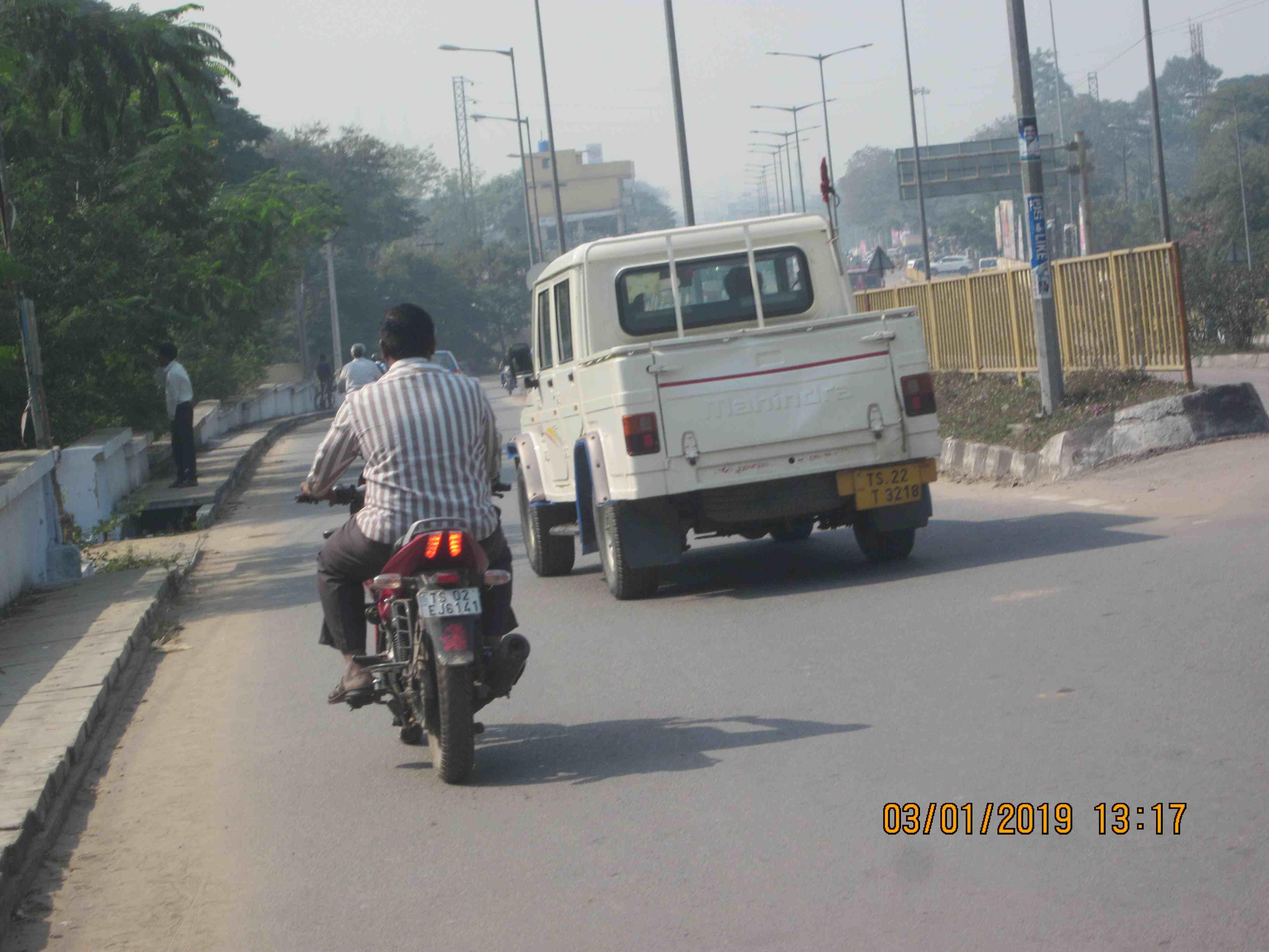plate: (415, 581, 504, 620)
